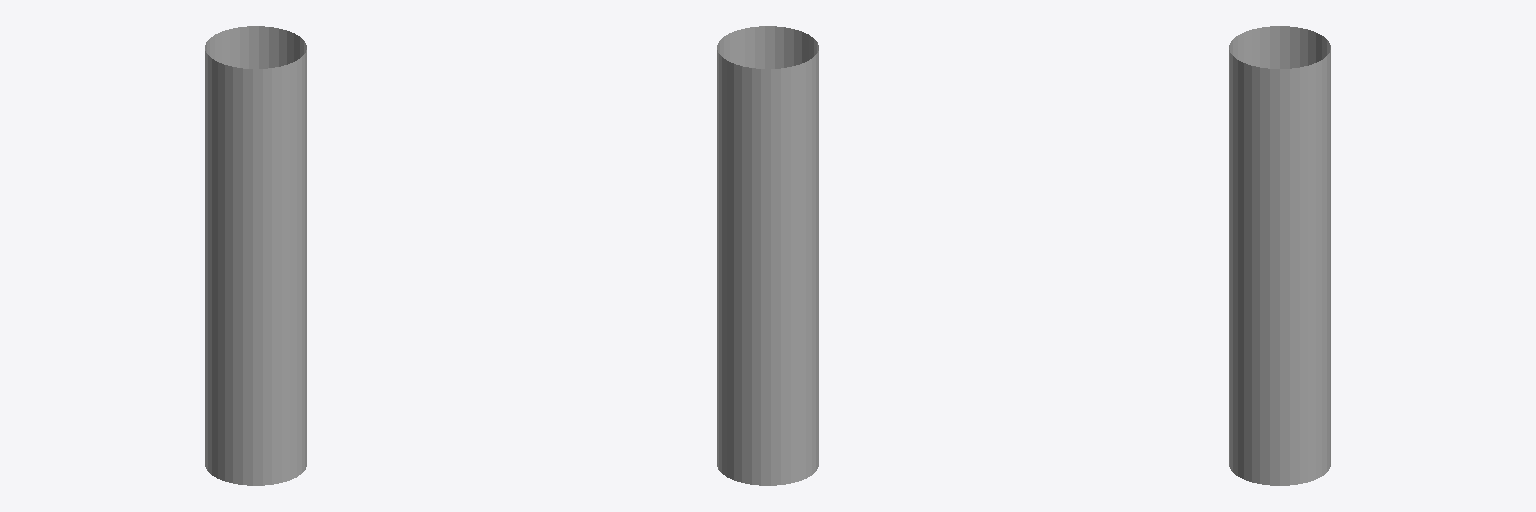
File: backcylinder.obj
3 views of the same model, side by side, from view 1: azimuth 30°, elevation 25°; view 2: azimuth 150°, elevation 25°; view 3: azimuth 270°, elevation 25° (orthographic).
Visible parts, largest first — view 1: Cylinder; view 2: Cylinder; view 3: Cylinder.
Part boxes in pixels (bbox=[...]): Cylinder: bbox=[205, 26, 306, 485]; Cylinder: bbox=[717, 26, 818, 485]; Cylinder: bbox=[1229, 26, 1330, 485].
Bounding box in the file's own units: 2 × 9 × 2.